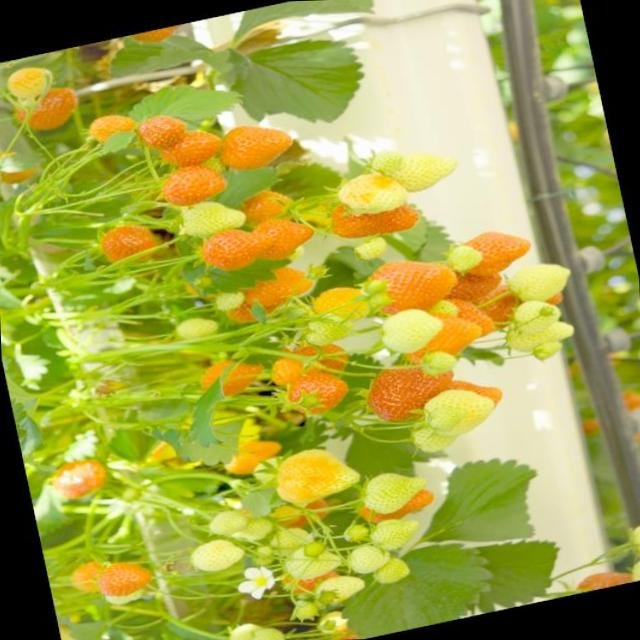ripe: (353, 353, 458, 427), (360, 246, 460, 322), (321, 185, 422, 242), (456, 219, 540, 278), (217, 114, 297, 172), (192, 220, 270, 278), (12, 78, 92, 132), (233, 255, 311, 308), (280, 364, 356, 418), (155, 158, 232, 210), (47, 450, 115, 500), (252, 210, 316, 260), (194, 352, 262, 398), (90, 555, 156, 601), (94, 216, 160, 262), (154, 124, 222, 168), (232, 184, 296, 224), (134, 109, 187, 148), (85, 105, 136, 144), (569, 564, 630, 594), (68, 558, 110, 590)
